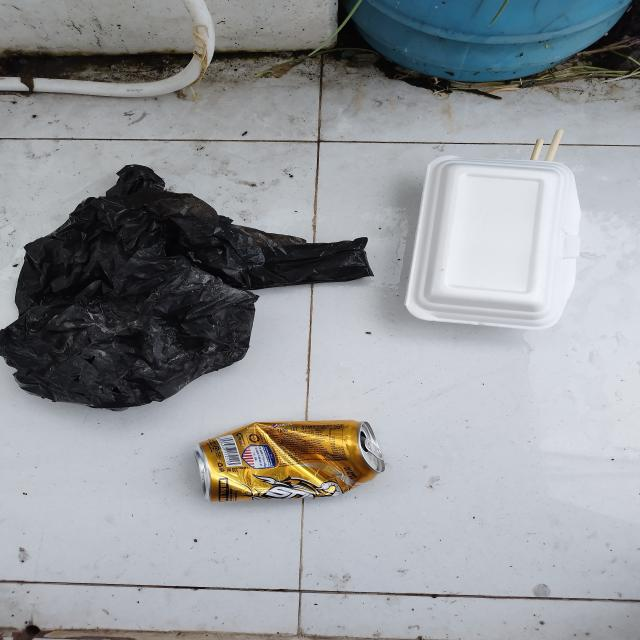bag: (0, 163, 382, 414)
can: (191, 420, 387, 503)
foam box: (403, 153, 585, 331)
